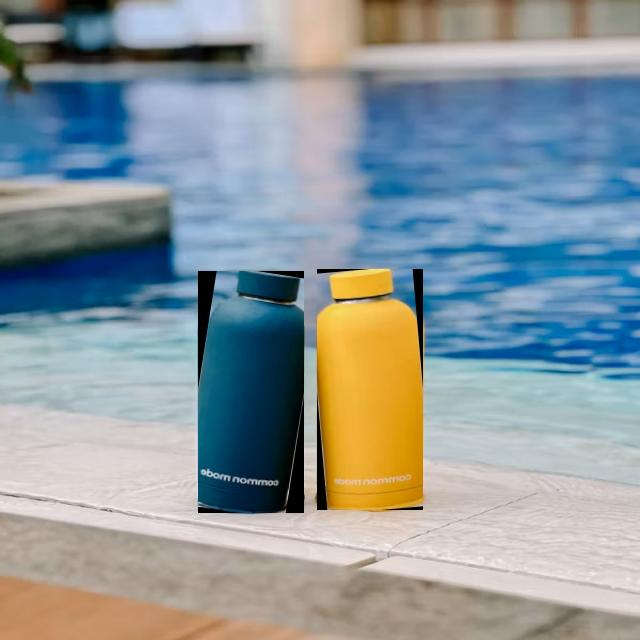Bottle: (316, 269, 422, 510), (198, 272, 303, 512)
